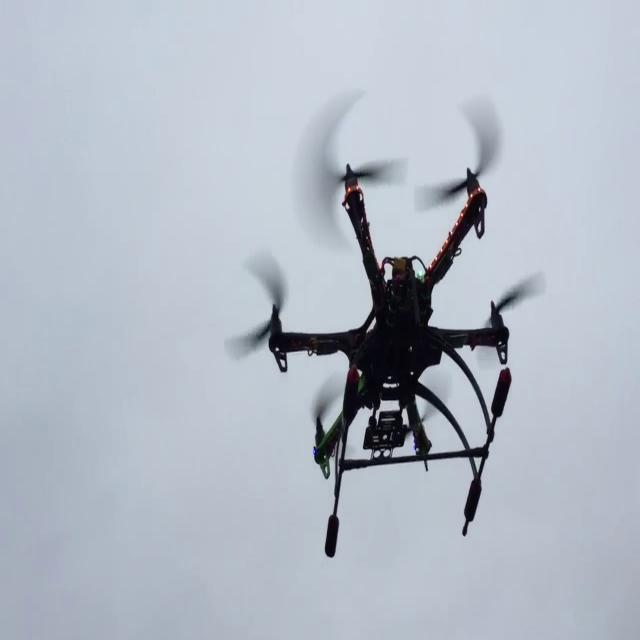drone: (219, 108, 552, 521)
